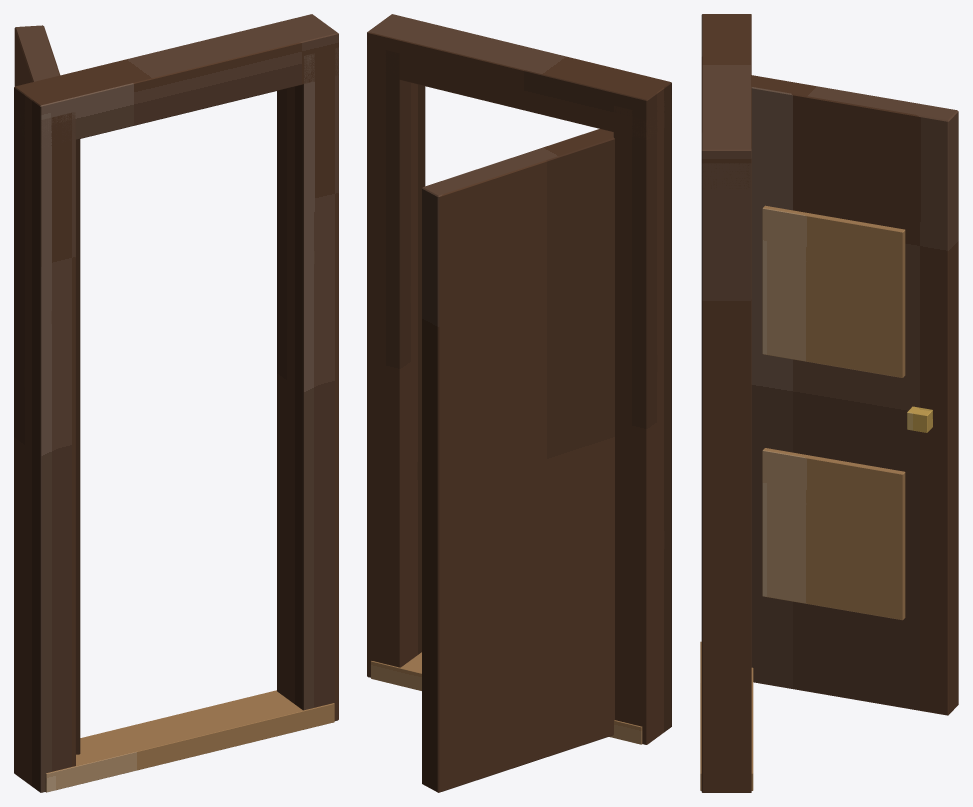
The model's file is normal_room_door.glb.
3 views of the same model, side by side, from view 1: azimuth 30°, elevation 25°; view 2: azimuth 150°, elevation 25°; view 3: azimuth 270°, elevation 25° (orthographic). The views are drawn at different scales.
Parts seen in each view (by area): view 1: DoorFrameL, DoorFrameR, DoorFrameTop, Threshold, OpenDoorLeaf; view 2: OpenDoorLeaf, DoorFrameL, DoorFrameR, DoorFrameTop, Threshold; view 3: OpenDoorLeaf, DoorFrameR, DoorPanel_2, DoorPanel_1, DoorFrameTop, Threshold, DoorHandle.
Part boxes in pixels (x1=…): DoorFrameL: x1=14, y1=101, x2=75, y2=792; DoorFrameR: x1=277, y1=47, x2=338, y2=720; DoorFrameTop: x1=14, y1=14, x2=338, y2=146; Threshold: x1=45, y1=690, x2=334, y2=792; OpenDoorLeaf: x1=14, y1=25, x2=80, y2=754; OpenDoorLeaf: x1=422, y1=129, x2=614, y2=792; DoorFrameL: x1=613, y1=96, x2=671, y2=744; DoorFrameR: x1=367, y1=45, x2=425, y2=677; DoorFrameTop: x1=367, y1=14, x2=671, y2=139; Threshold: x1=371, y1=652, x2=642, y2=744; OpenDoorLeaf: x1=751, y1=75, x2=958, y2=715; DoorFrameR: x1=701, y1=163, x2=751, y2=792; DoorPanel_2: x1=762, y1=205, x2=905, y2=377; DoorPanel_1: x1=762, y1=448, x2=905, y2=620; DoorFrameTop: x1=701, y1=14, x2=751, y2=189; Threshold: x1=700, y1=641, x2=753, y2=790; DoorHandle: x1=907, y1=406, x2=932, y2=432.
Size of the model in its own units: 1.16 by 2.55 by 0.9282.
Materials: 1 (1 with a texture image).
